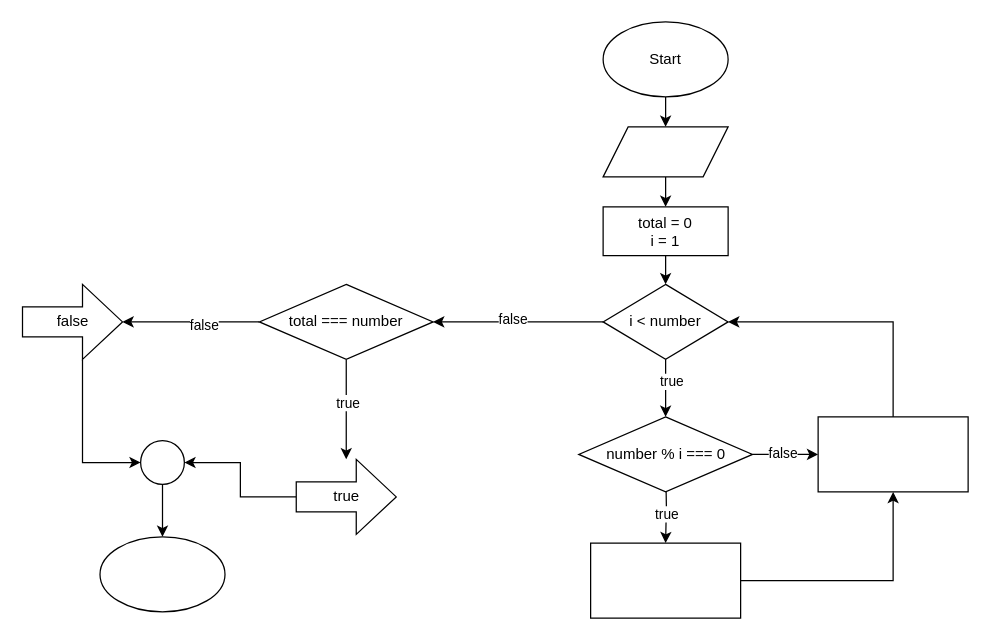
The diagram is 990 pixels wide and 640 high, and some of its shapes have lost their labels. Each missing label, with the centre of its shape:
"End" belongs at pixel 162 574.
"i = i + 1" belongs at pixel 892 454.
"number" belongs at pixel 665 151.
"total = total + i" belongs at pixel 665 580.
